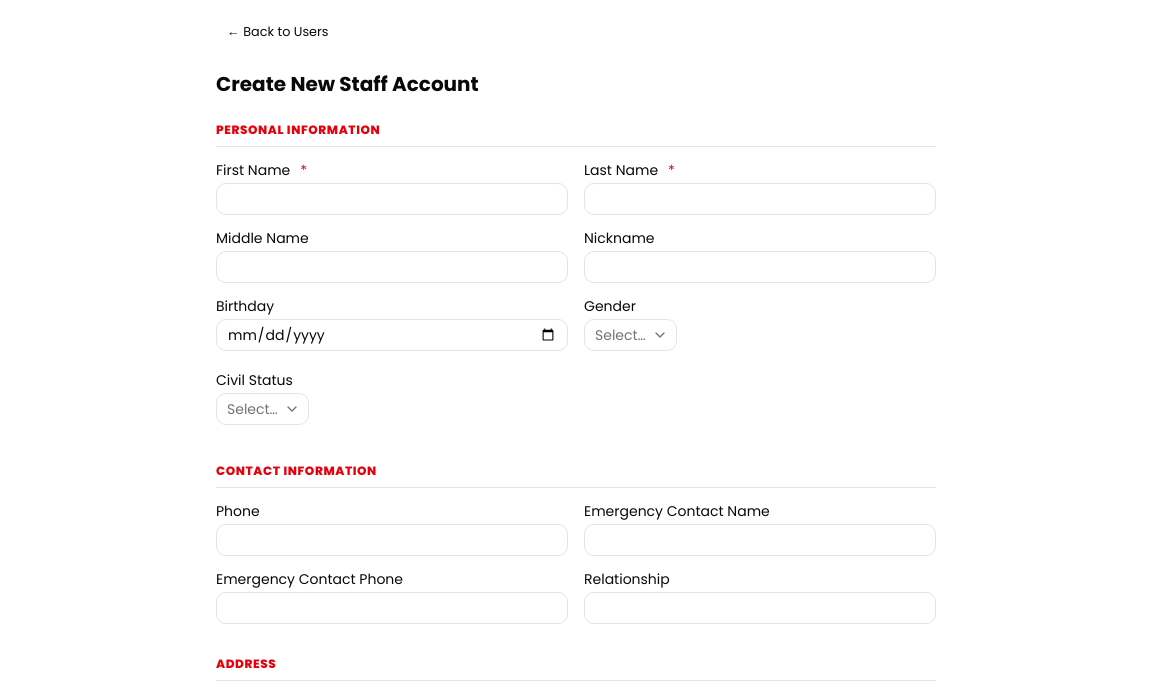
Test: CreateUserPage › shows 'Role is required' when role is not selected on submit
Note: Submit with required text fields filled but role empty
Type "Juan" into the field below "First Name".
click(392, 199); type("Juan")  # box [216,183,568,215]
(page scrolled)
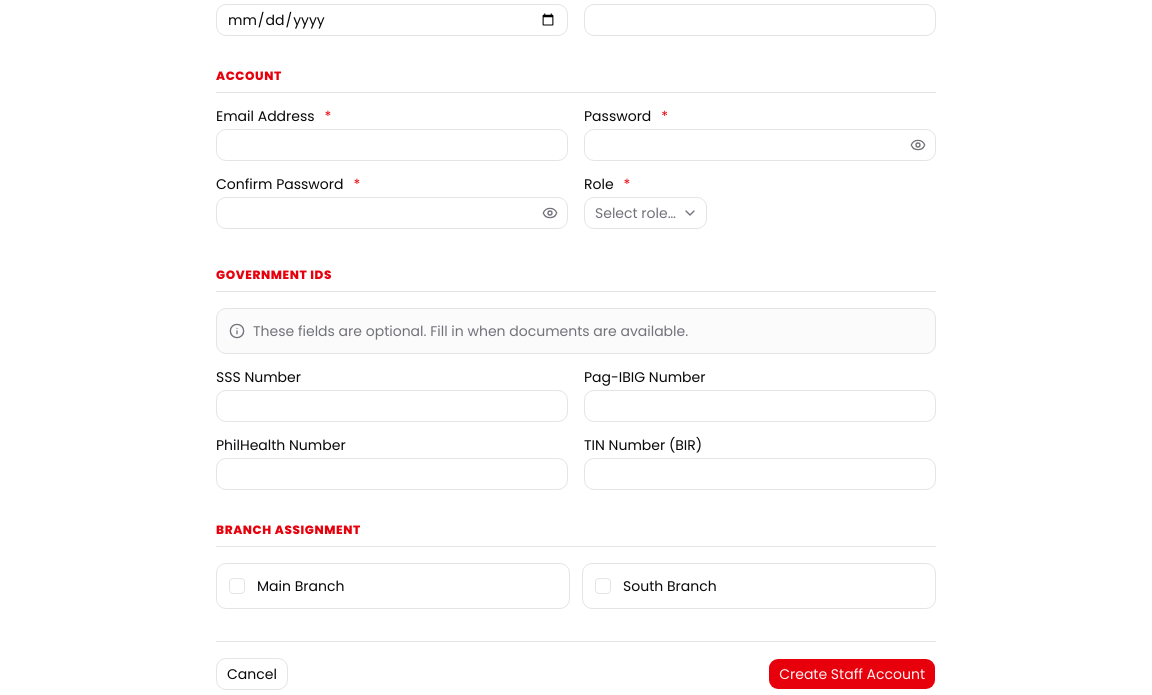
Click the button "Create Staff Account".
click(852, 674)  # box [768,658,936,690]
(page scrolled)
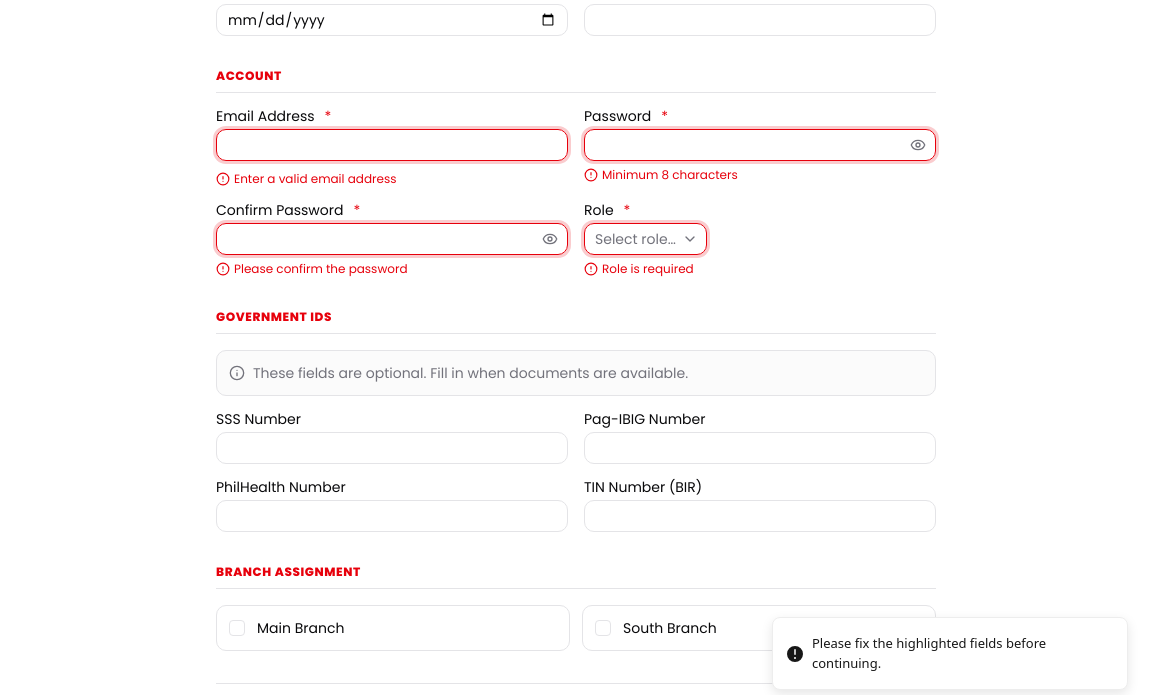
Expected: the text "Role is required" is shown, [584,260,694,277]
